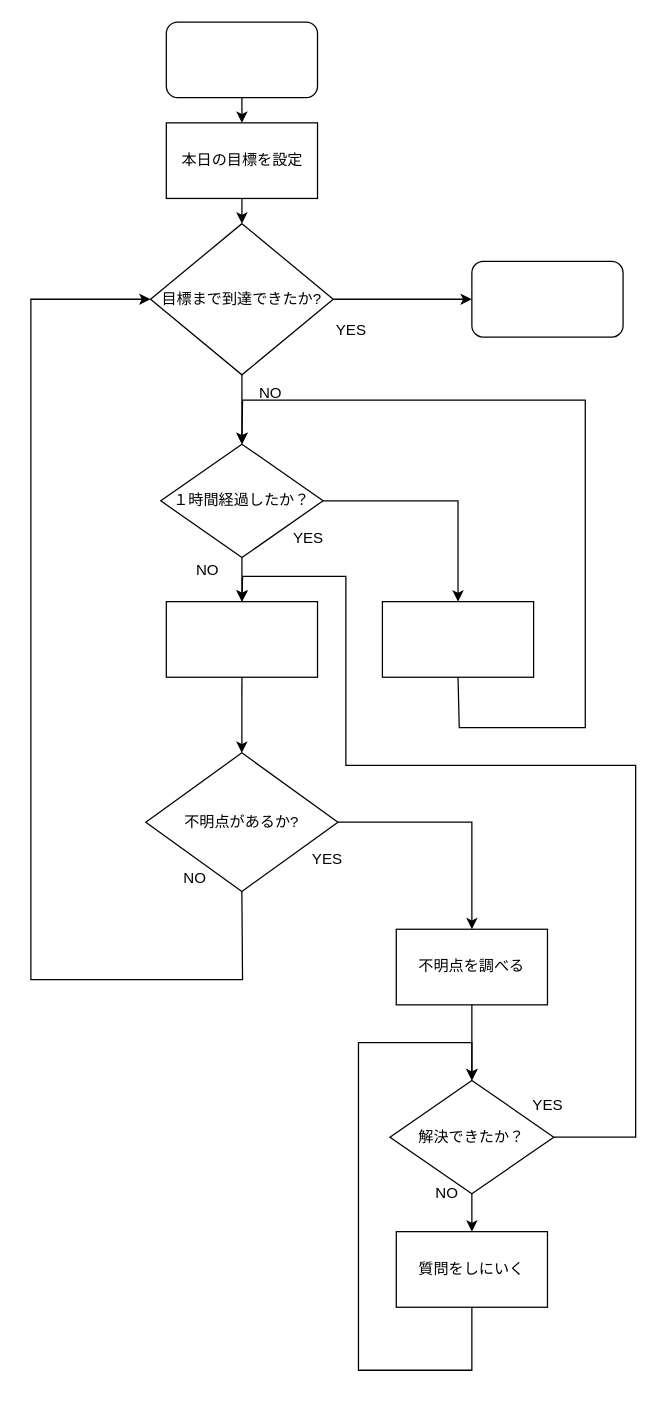
Some shapes in this 668 by 1402 pixel diagram are drawn without their labels. The centre of each missing label's shape, as x and y in pixels:
10分間の休憩: pixel 457 638
勉強をする: pixel 241 638
学習終了: pixel 547 298
開始: pixel 241 59
